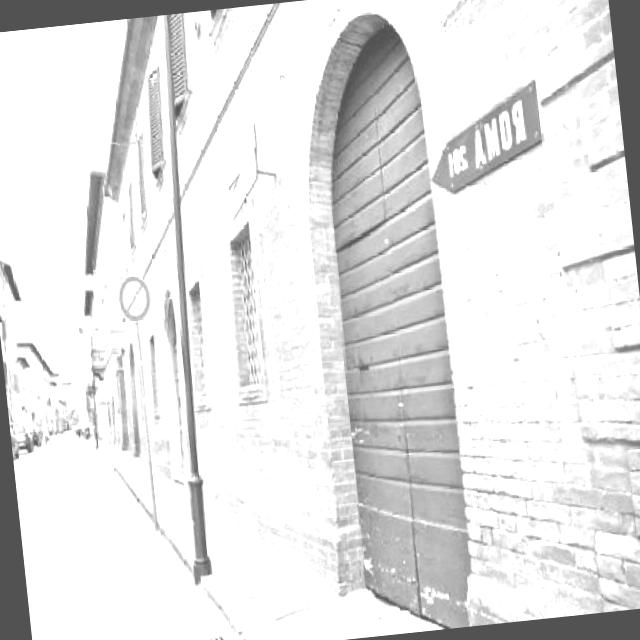Person: (36, 426, 43, 448)
